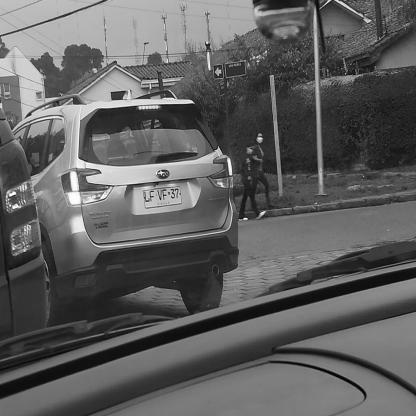Patente: (140, 184, 184, 213)
